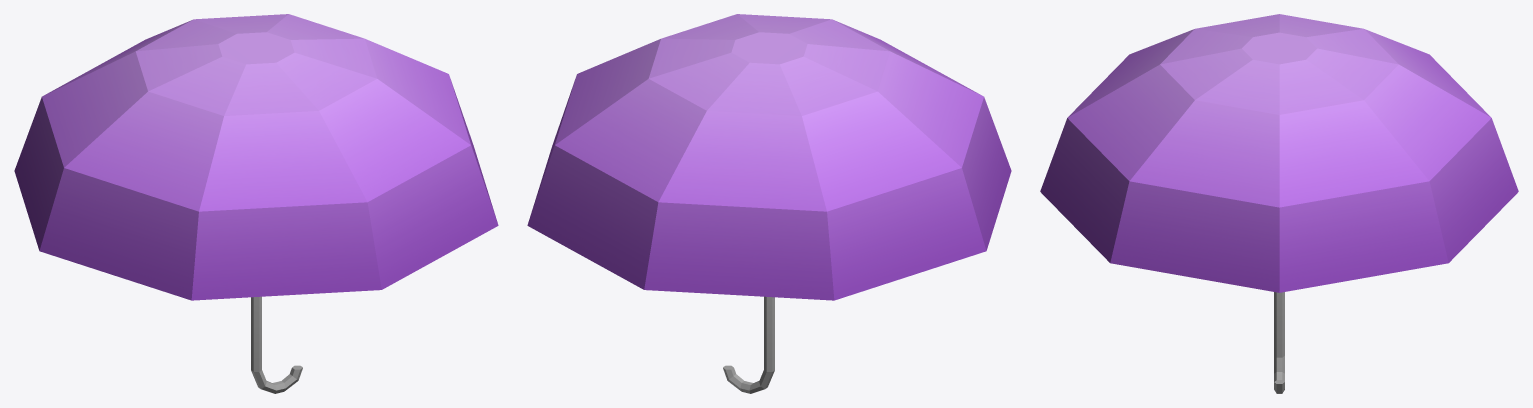
File: parasol.fbx
3 views of the same model, side by side, from view 1: azimuth 30°, elevation 25°; view 2: azimuth 150°, elevation 25°; view 3: azimuth 270°, elevation 25° (orthographic). The views are drawn at different scales.
Visible parts, largest first — view 1: Circle; view 2: Circle; view 3: Circle.
Part boxes in pixels (x1,y1,x2,y2): Circle: [14, 14, 498, 393]; Circle: [527, 14, 1011, 393]; Circle: [1040, 14, 1518, 393].
Size of the model in its own units: 258 by 198 by 258.
